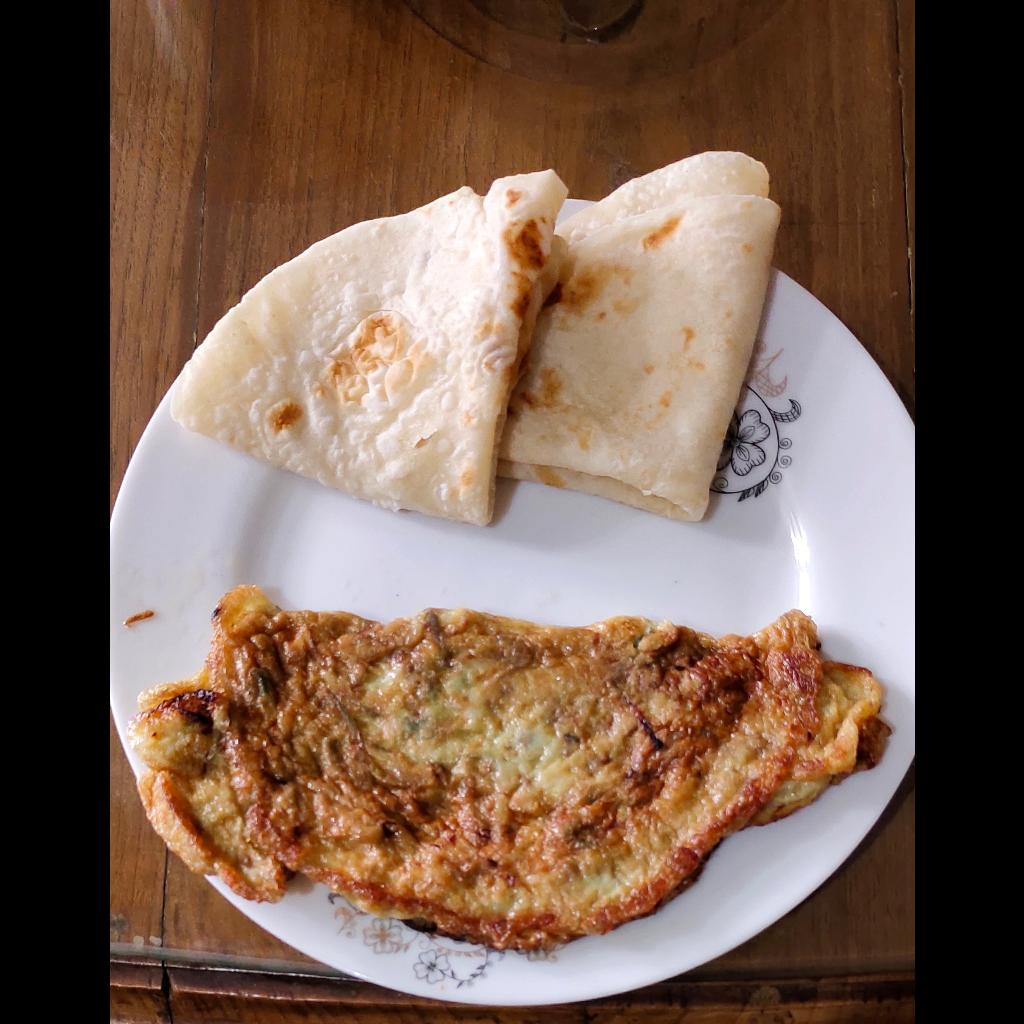egg-poached: (133, 585, 894, 953)
ruti: (156, 149, 781, 529)
